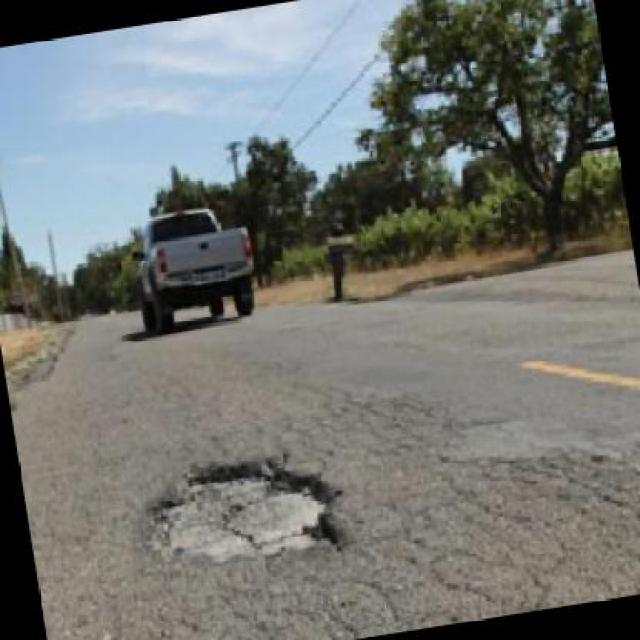pothole1: (132, 440, 351, 582)
